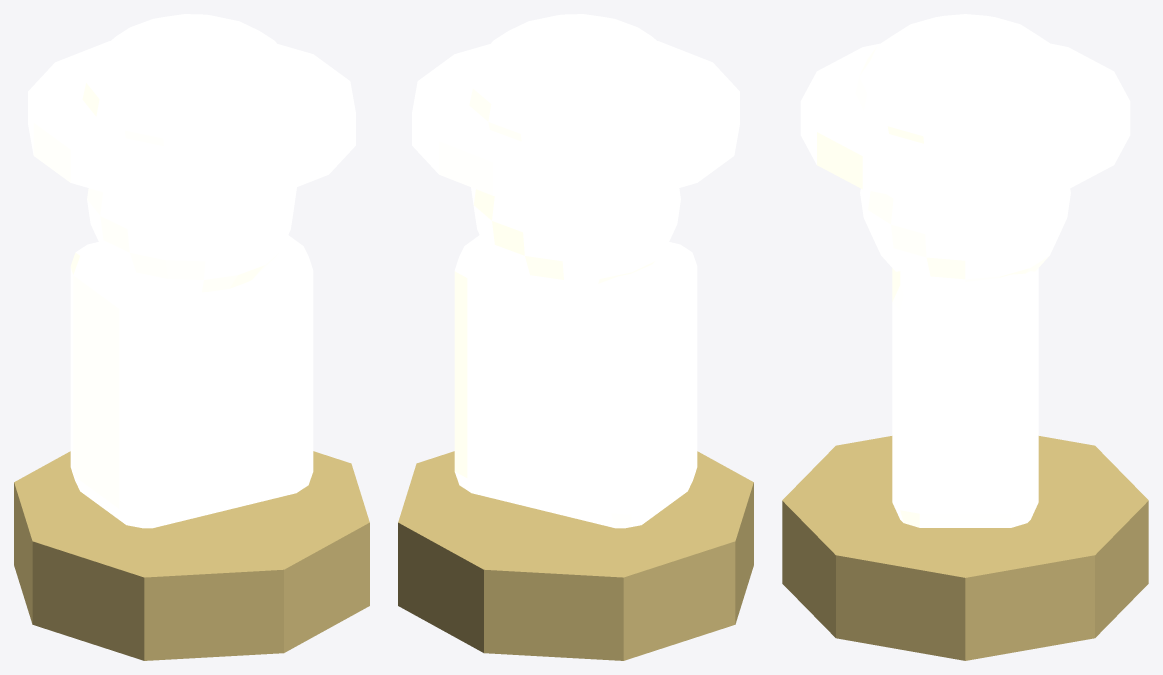
File: item_extra_life.glb
3 renders of one model, left to right at view 1: azimuth 30°, elevation 25°; view 2: azimuth 150°, elevation 25°; view 3: azimuth 270°, elevation 25°, orthographic.
Visible parts, largest first — view 1: IdolTorso, IdolPlinth, IdolHelmetBrim, IdolHelmetCrown, IdolHead; view 2: IdolTorso, IdolPlinth, IdolHelmetBrim, IdolHelmetCrown, IdolHead; view 3: IdolPlinth, IdolTorso, IdolHelmetBrim, IdolHelmetCrown, IdolHead.
Boxes of the visible parts, <box> form: IdolTorso: <box>70,235,313,528</box>; IdolPlinth: <box>14,451,369,660</box>; IdolHelmetBrim: <box>28,41,355,204</box>; IdolHelmetCrown: <box>82,14,301,147</box>; IdolHead: <box>87,187,296,292</box>; IdolTorso: <box>454,235,697,528</box>; IdolPlinth: <box>398,451,753,660</box>; IdolHelmetBrim: <box>412,41,739,204</box>; IdolHelmetCrown: <box>466,14,685,147</box>; IdolHead: <box>471,187,680,292</box>; IdolPlinth: <box>782,436,1148,660</box>; IdolTorso: <box>892,268,1038,527</box>; IdolHelmetBrim: <box>800,43,1130,202</box>; IdolHelmetCrown: <box>855,14,1075,147</box>; IdolHead: <box>860,188,1070,281</box>.
Bounding box in the file's own units: 0.3892 × 0.65 × 0.3892.
